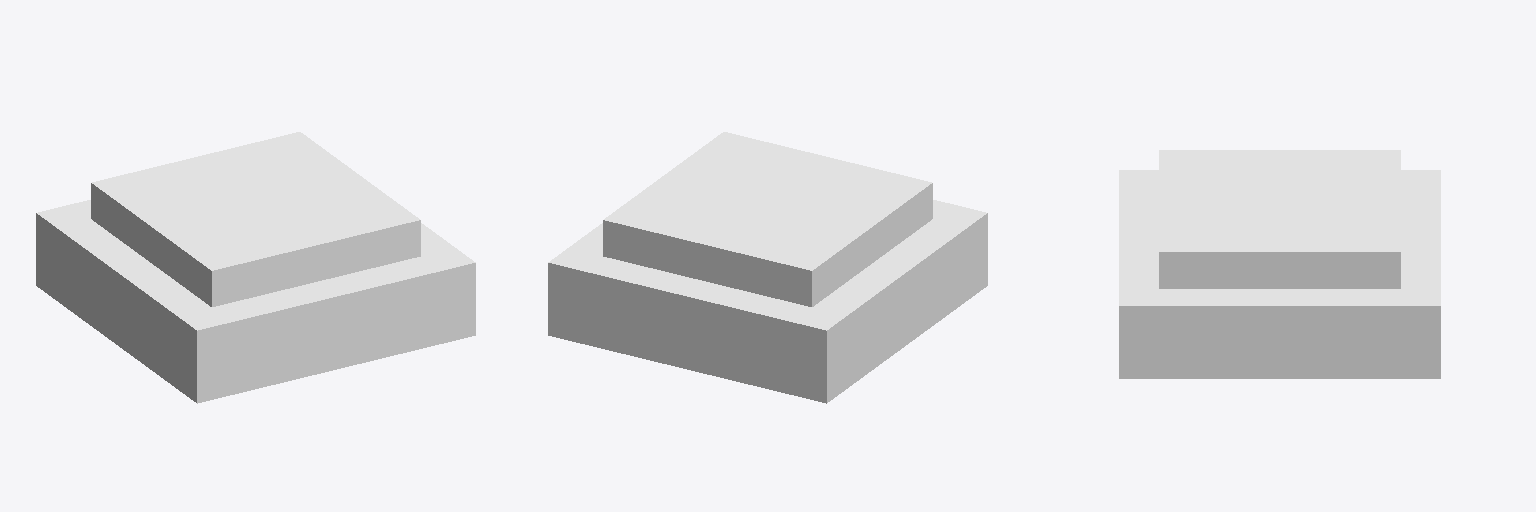
The model's file is DuaneHat.obj.
3 views of the same model, side by side, from view 1: azimuth 30°, elevation 25°; view 2: azimuth 150°, elevation 25°; view 3: azimuth 270°, elevation 25° (orthographic).
Visible parts, largest first — view 1: object 1; view 2: object 1; view 3: object 1.
Part boxes in pixels (x1,y1,x2,y2): object 1: (36, 132, 475, 403); object 1: (548, 132, 987, 403); object 1: (1119, 150, 1440, 378).
Size of the model in its own units: 0.8 by 0.3 by 0.8.